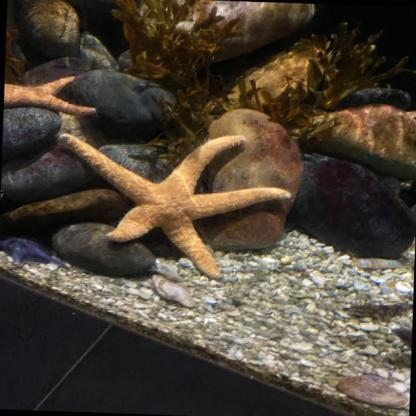starfish: (54, 128, 292, 280), (3, 74, 98, 116)
